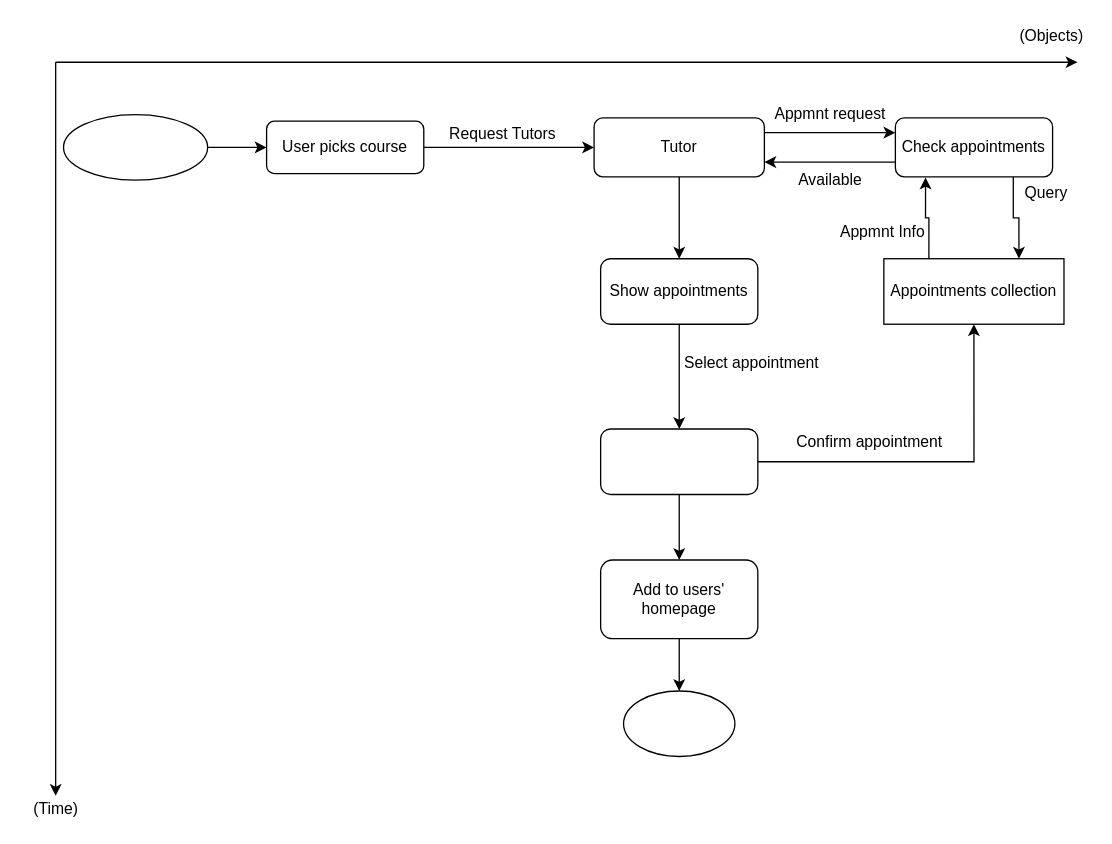
The diagram is 1112 pixels wide and 844 high, and some of its shapes have lost their labels. Each missing label, with the centre of its shape:
"Make reserversation" goes at (678,461).
"Start" goes at (135,146).
"Stop" goes at (678,723).
